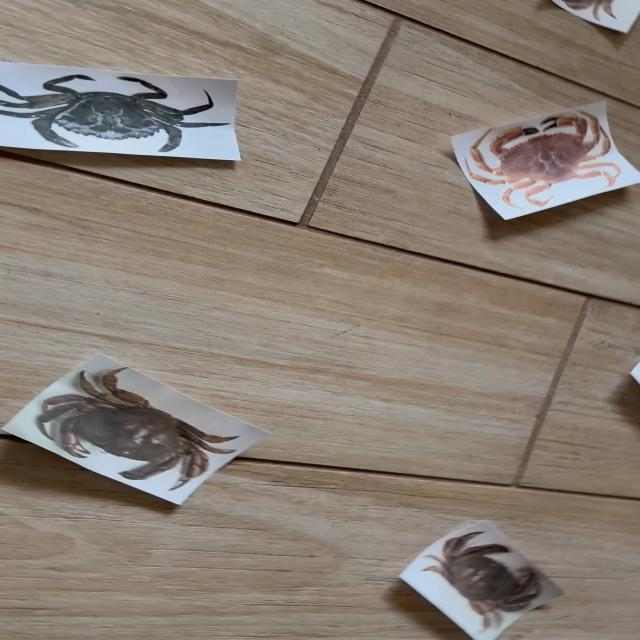egc: (0, 74, 229, 152)
